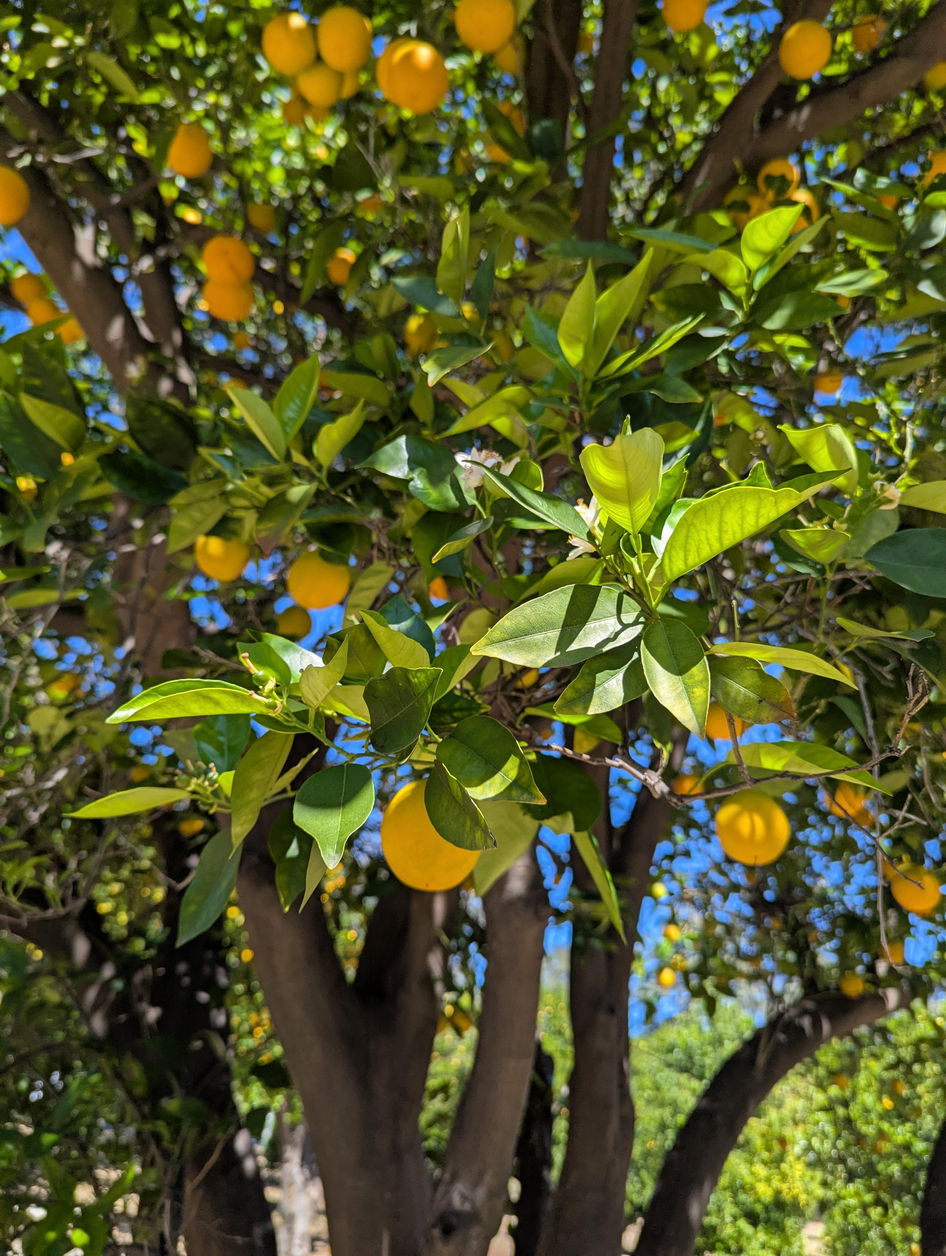orange: (380, 777, 482, 890), (715, 790, 790, 865), (389, 41, 449, 114), (288, 551, 351, 609), (318, 6, 373, 71), (263, 13, 316, 75), (456, 0, 516, 53), (779, 21, 832, 79), (376, 39, 418, 105), (195, 534, 253, 580), (203, 236, 254, 288), (167, 123, 212, 177), (891, 864, 941, 912), (295, 61, 344, 108), (202, 276, 253, 321), (0, 165, 29, 226), (756, 158, 798, 200), (734, 195, 774, 233), (479, 329, 515, 369), (789, 190, 819, 236), (826, 780, 864, 816), (706, 702, 742, 739), (662, 0, 705, 29), (724, 185, 760, 219), (852, 15, 886, 50), (405, 315, 436, 352), (14, 273, 47, 305), (495, 35, 522, 73), (278, 606, 311, 637), (52, 312, 83, 345), (329, 251, 354, 284), (249, 203, 276, 232), (28, 299, 58, 324), (672, 774, 704, 795), (816, 371, 842, 392), (508, 108, 526, 138), (927, 62, 946, 90), (485, 142, 513, 161), (342, 70, 359, 99), (429, 576, 450, 598), (885, 941, 905, 964), (285, 100, 304, 124), (516, 669, 538, 688), (362, 194, 384, 213), (842, 978, 864, 997), (929, 151, 946, 175), (851, 808, 873, 826), (658, 966, 676, 988), (495, 100, 513, 117), (233, 332, 250, 349), (664, 924, 680, 941), (455, 1014, 471, 1030), (184, 212, 201, 225), (224, 380, 248, 389), (881, 196, 898, 208)
